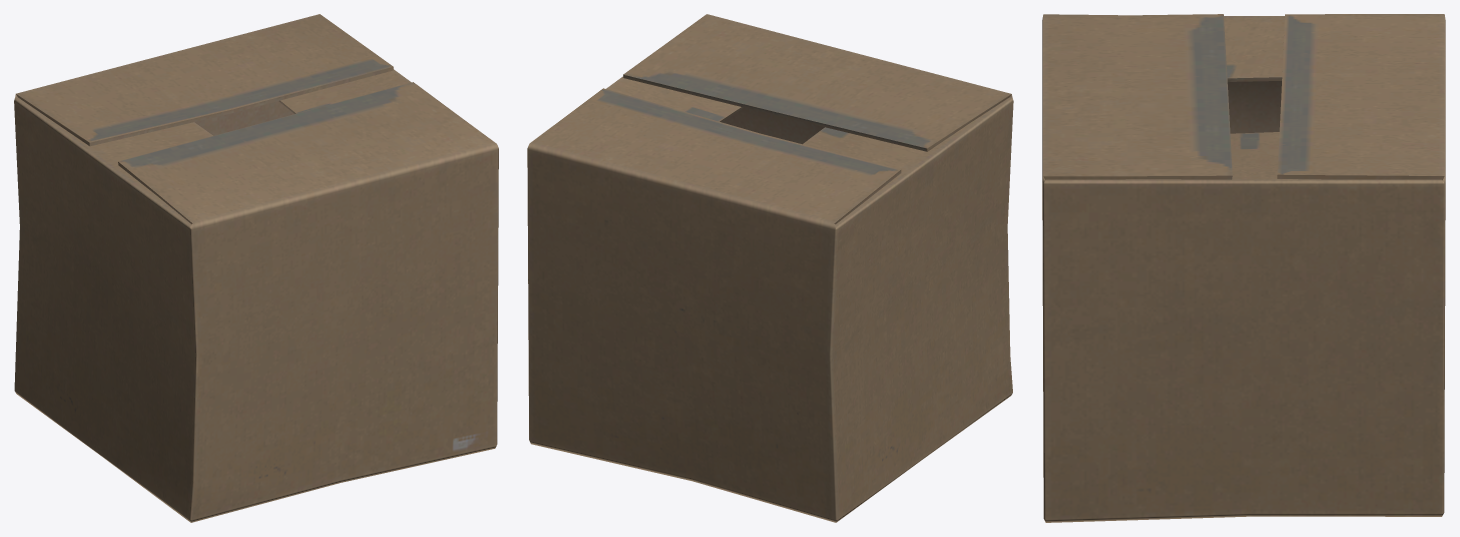
Rendered from SM_Ammo_Cardboard_Boxes_01d.glb.
The picture shows the model from 3 angles, left to right: view 1: azimuth 30°, elevation 25°; view 2: azimuth 150°, elevation 25°; view 3: azimuth 270°, elevation 25°; orthographic projection. The views are drawn at different scales.
Visible parts, largest first — view 1: SM_Ammo_Cardboard_Boxes_01d; view 2: SM_Ammo_Cardboard_Boxes_01d; view 3: SM_Ammo_Cardboard_Boxes_01d.
Part boxes in pixels (x1=…): SM_Ammo_Cardboard_Boxes_01d: x1=14, y1=14, x2=498, y2=522; SM_Ammo_Cardboard_Boxes_01d: x1=527, y1=14, x2=1013, y2=522; SM_Ammo_Cardboard_Boxes_01d: x1=1042, y1=14, x2=1445, y2=522.
Size of the model in its own units: 0.5736 by 0.5446 by 0.5713.
Materials: 1 (1 with a texture image).
